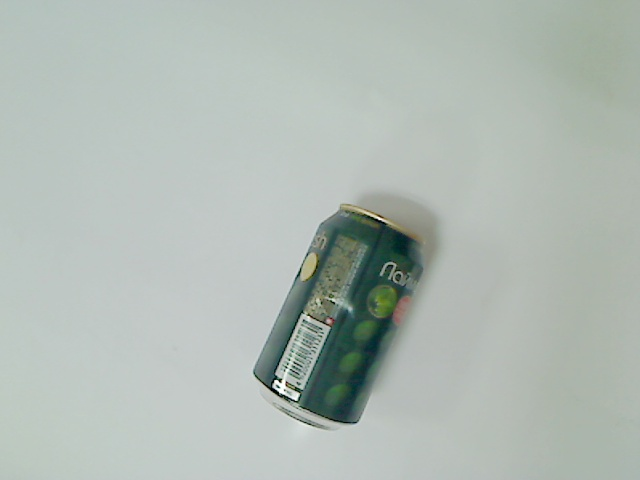can: (248, 200, 427, 437)
